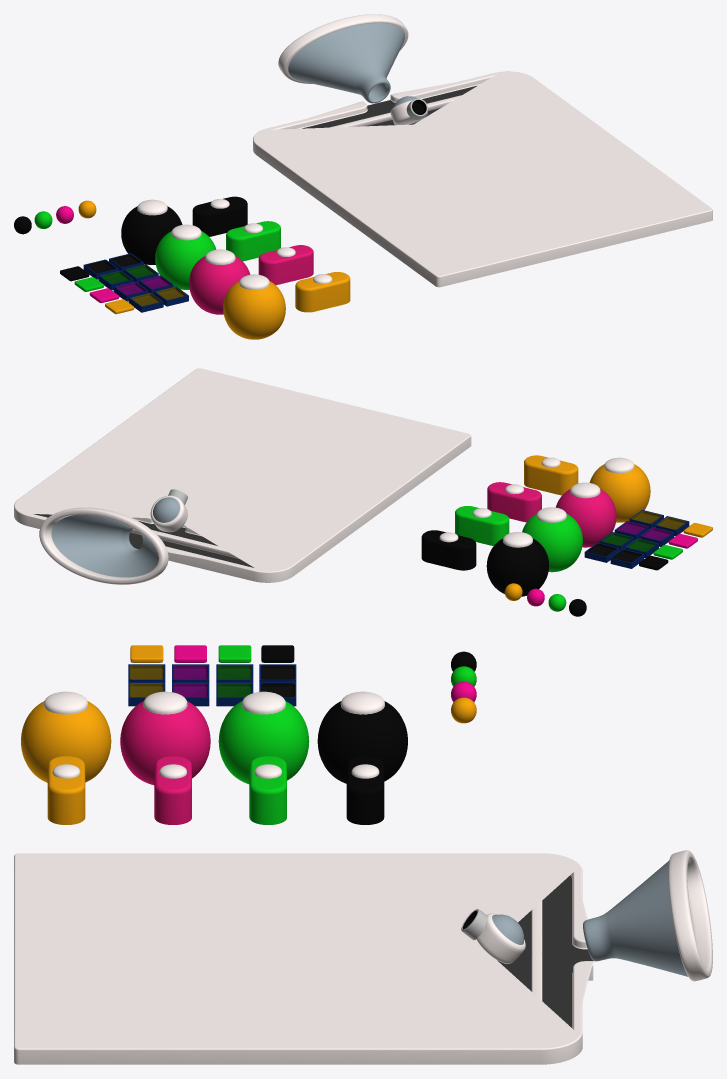
File: Puzzle_Board.fbx
3 renders of one model, top to bottom at view 1: azimuth 30°, elevation 25°; view 2: azimuth 150°, elevation 25°; view 3: azimuth 270°, elevation 25°, orthographic. The views are drawn at different scales.
Parts seen in each view (by area): view 1: Board, Funnel, Big_Bullet_Yellow, Big_Bullet_Pink, Big_Bullet_Black, Big_Bullet_Green, Stack_Bullet_Yellow, Stack_Bullet_Pink, Stack_Bullet_Black, Stack_Bullet_Green, Gun; view 2: Board, Funnel, Big_Bullet_Black, Big_Bullet_Green, Big_Bullet_Yellow, Big_Bullet_Pink, Stack_Bullet_Black, Stack_Bullet_Yellow, Stack_Bullet_Green, Stack_Bullet_Pink, Gun, Corner_Black (+4 smaller); view 3: Board, Funnel, Big_Bullet_Pink, Big_Bullet_Green, Big_Bullet_Black, Big_Bullet_Yellow, Stack_Bullet_Yellow, Stack_Bullet_Black, Stack_Bullet_Green, Stack_Bullet_Pink, Gun, Board_Piece_Green (+5 smaller).
Boxes of the visible parts, x1,y1,x2,y2 form: Board: (253, 71, 712, 287); Funnel: (278, 14, 408, 103); Big_Bullet_Yellow: (223, 274, 285, 339); Big_Bullet_Pink: (189, 249, 250, 314); Big_Bullet_Black: (121, 199, 182, 264); Big_Bullet_Green: (155, 224, 216, 289); Stack_Bullet_Yellow: (295, 272, 350, 312); Stack_Bullet_Pink: (258, 245, 313, 285); Stack_Bullet_Black: (192, 196, 247, 236); Stack_Bullet_Green: (226, 221, 280, 261); Gun: (390, 96, 427, 125); Board: (14, 368, 471, 582); Funnel: (39, 507, 168, 584); Big_Bullet_Black: (486, 532, 548, 596); Big_Bullet_Green: (522, 507, 582, 572); Big_Bullet_Yellow: (589, 457, 650, 522); Big_Bullet_Pink: (555, 482, 616, 547); Stack_Bullet_Black: (421, 530, 476, 570); Stack_Bullet_Yellow: (524, 455, 578, 495); Stack_Bullet_Green: (455, 506, 509, 545); Stack_Bullet_Pink: (487, 482, 541, 522); Gun: (150, 489, 187, 532); Corner_Black: (610, 548, 644, 568); Board: (14, 853, 593, 1064); Funnel: (583, 850, 712, 981); Big_Bullet_Pink: (120, 691, 210, 785); Big_Bullet_Green: (218, 691, 309, 784); Big_Bullet_Black: (317, 691, 407, 783); Big_Bullet_Yellow: (21, 691, 111, 782); Stack_Bullet_Yellow: (47, 756, 85, 824); Stack_Bullet_Black: (346, 756, 384, 824); Stack_Bullet_Green: (249, 756, 286, 824); Stack_Bullet_Pink: (154, 756, 191, 824); Gun: (461, 909, 525, 963); Board_Piece_Green: (216, 682, 253, 706).
Bounding box in the file's own units: 6.33 × 0.9642 × 4.71.
